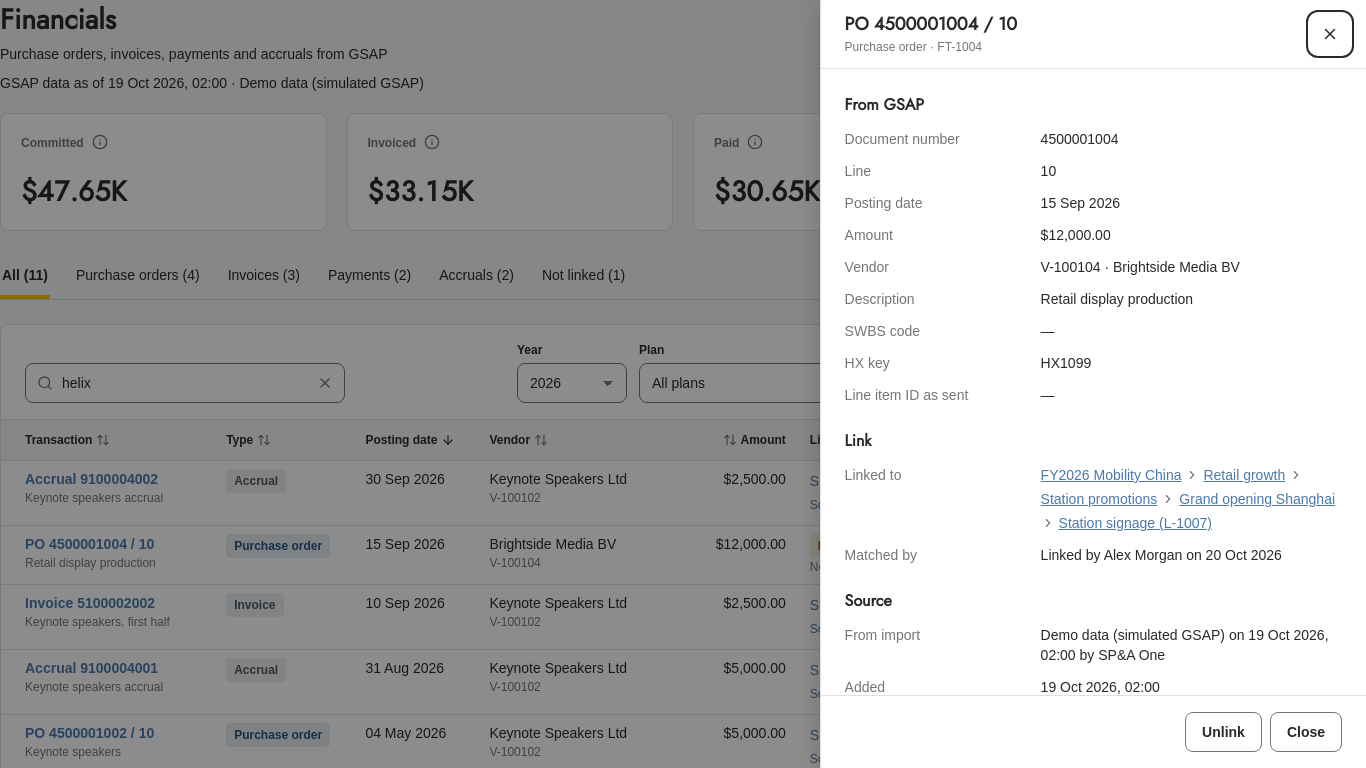
Test: TransactionPanel (015 US3 scenarios 3–4, FR-022) › unlinks a manual link after asking (US7 scenario 2)
Expected: the text "Linked by Alex Morgan on 20 Oct 2026" is shown, [1041, 547, 1282, 563]
Click the button "Unlink": {"x": 1224, "y": 732} [1185, 712, 1262, 752]
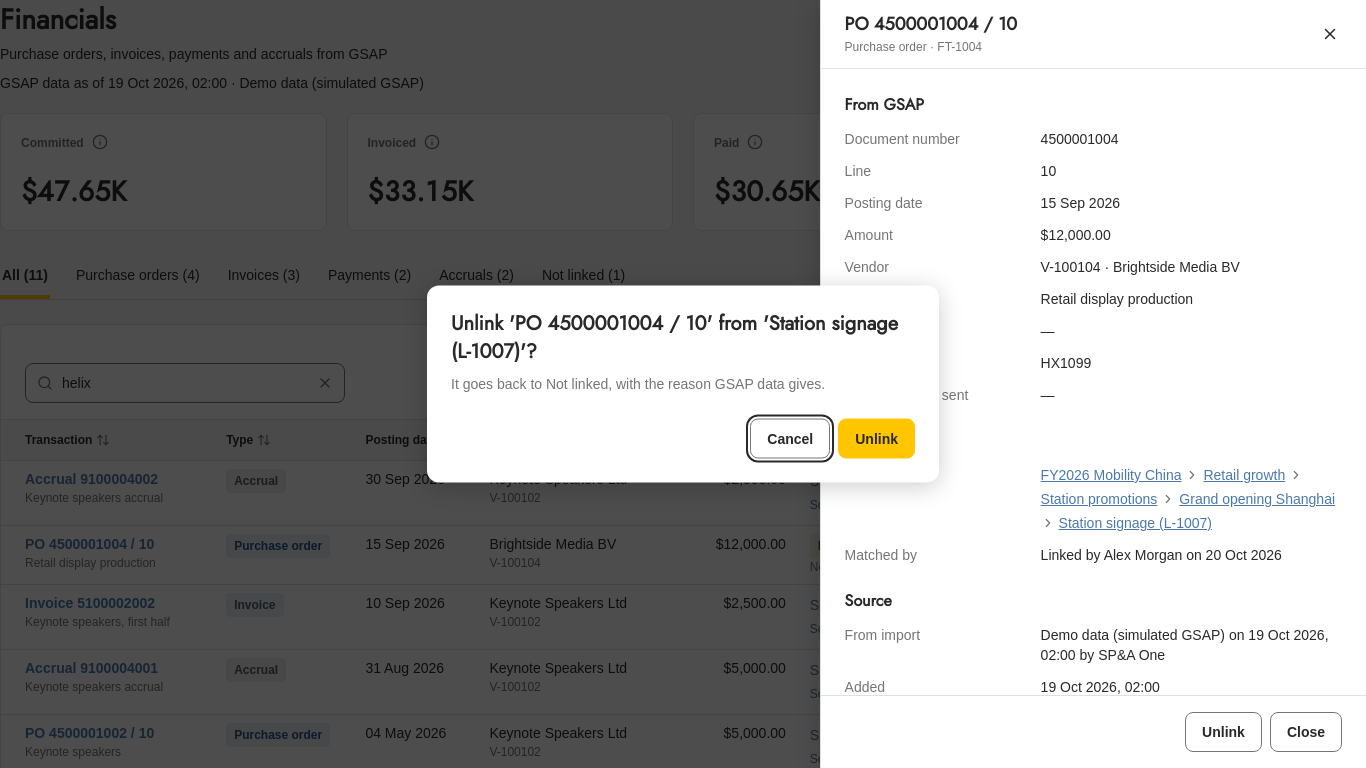
Click the button "Unlink": {"x": 877, "y": 438} [838, 418, 915, 458]
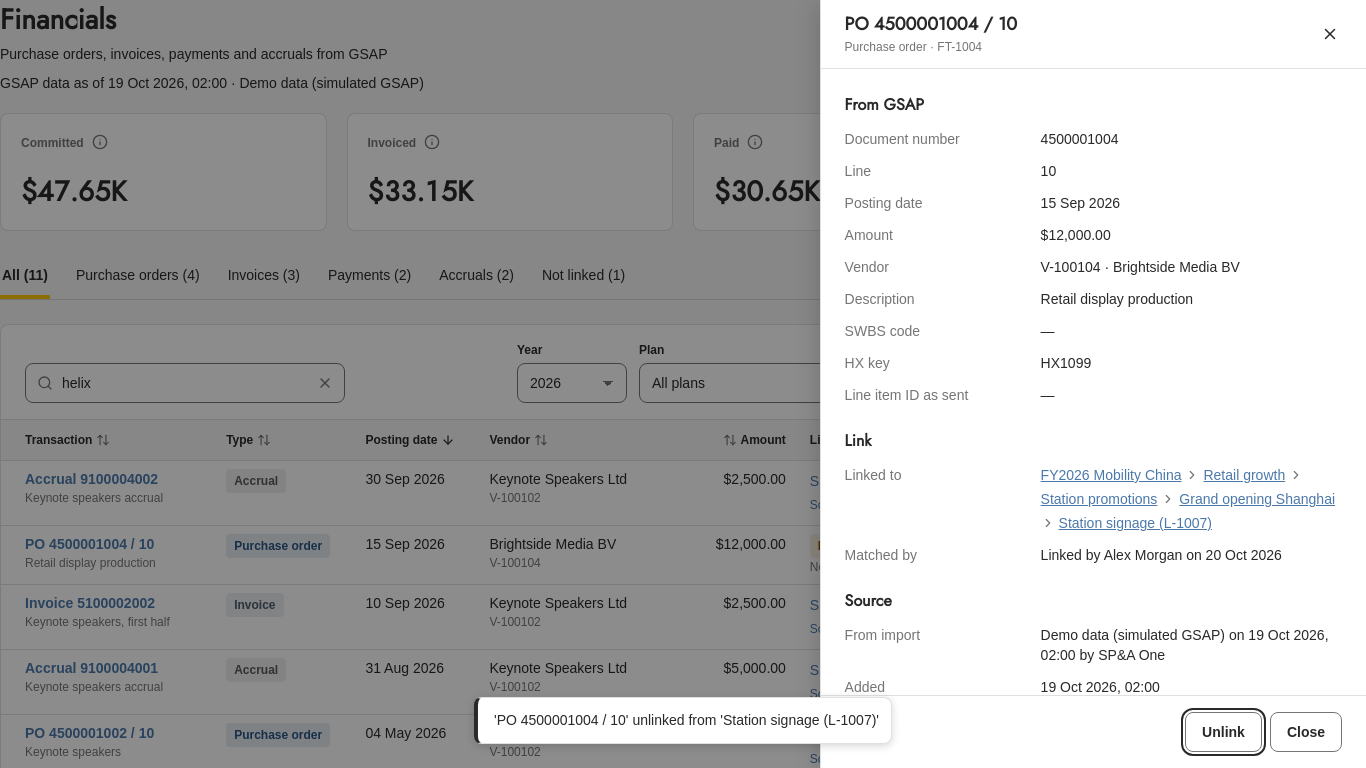
Expected: the text "'PO 4500001004 / 10' unlinked from 'Station signage (L-1007)'" is shown, [494, 710, 879, 731]
